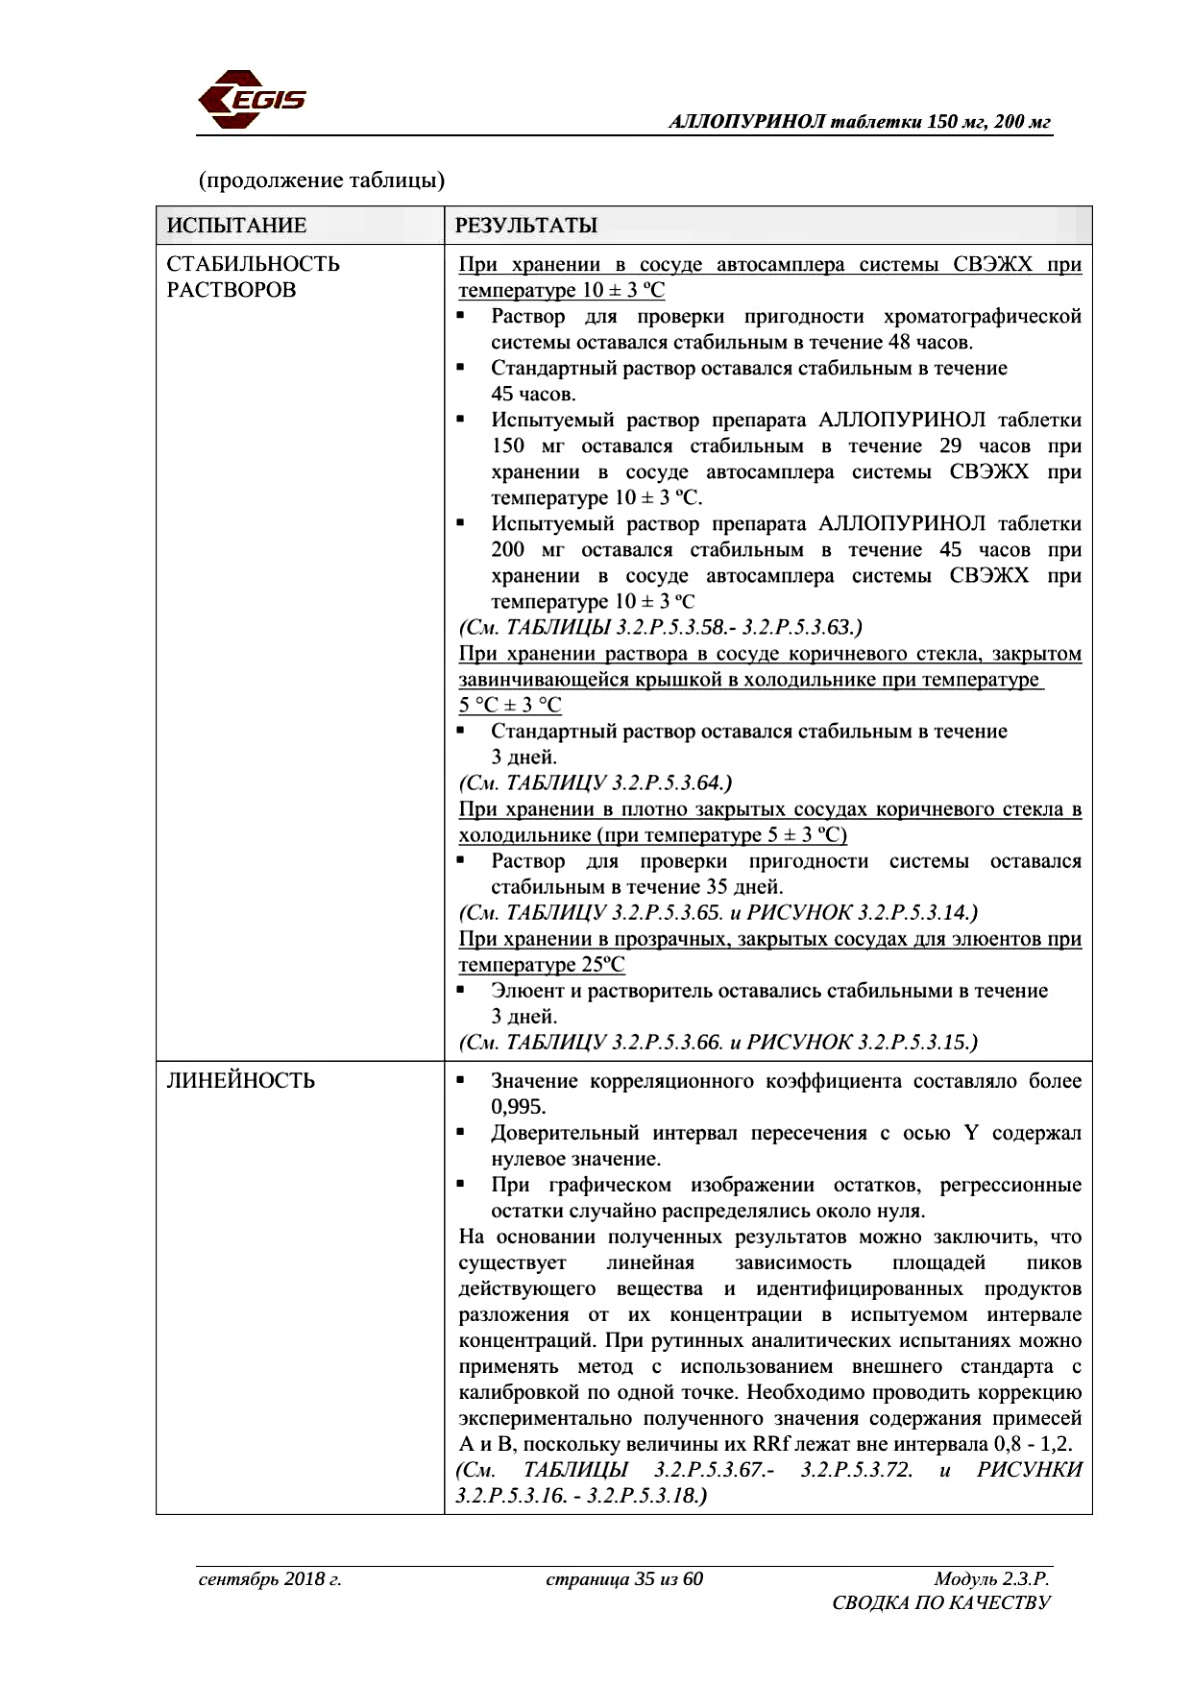full_lined: (154, 203, 1094, 1516)
